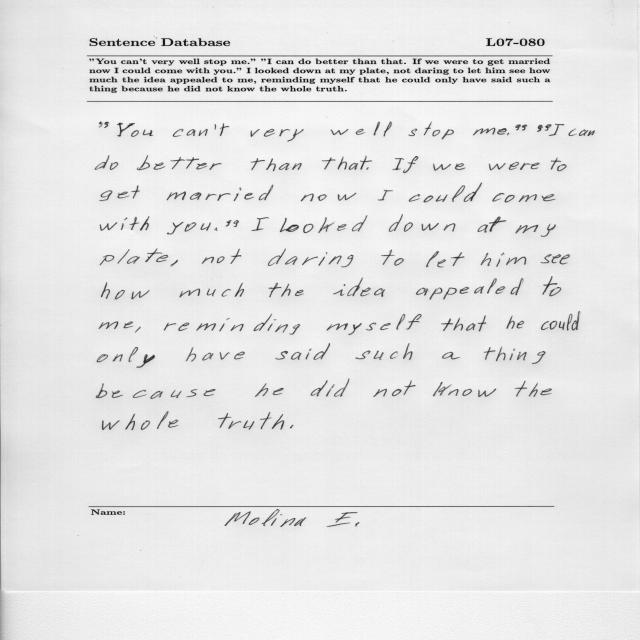word: (164, 314, 300, 335), (416, 278, 523, 299), (326, 314, 422, 335), (96, 383, 216, 399), (167, 185, 273, 201), (268, 249, 353, 268), (280, 215, 367, 233), (103, 411, 179, 430), (409, 183, 482, 202), (137, 155, 221, 170), (97, 347, 155, 368), (389, 214, 455, 232), (218, 412, 284, 430), (484, 346, 545, 364), (100, 249, 168, 265), (333, 277, 385, 297), (355, 343, 413, 360), (433, 382, 496, 397), (275, 343, 330, 360), (331, 122, 392, 137), (180, 283, 245, 297), (186, 347, 245, 362), (101, 282, 150, 299), (173, 123, 229, 137), (408, 122, 454, 139), (100, 216, 150, 231), (541, 312, 580, 331), (373, 380, 416, 397), (441, 316, 486, 332), (311, 379, 350, 397), (322, 156, 372, 170), (481, 252, 526, 267), (251, 158, 302, 171), (100, 185, 140, 201), (492, 193, 556, 203), (251, 129, 304, 141), (426, 251, 464, 267), (515, 381, 552, 397), (202, 249, 241, 264), (167, 222, 211, 235), (515, 224, 556, 237), (117, 123, 153, 137), (477, 216, 506, 233), (269, 283, 304, 297), (393, 156, 419, 173), (301, 193, 356, 201), (489, 162, 540, 170), (255, 383, 284, 397), (543, 277, 562, 297), (381, 250, 404, 266), (96, 155, 119, 170), (541, 255, 570, 265), (99, 321, 133, 329), (473, 128, 506, 136), (433, 163, 465, 171), (251, 217, 269, 231), (507, 316, 524, 329), (551, 158, 567, 171), (549, 123, 564, 136), (569, 129, 595, 136), (378, 190, 393, 200), (442, 352, 460, 359), (537, 124, 551, 132), (225, 220, 239, 227), (515, 124, 527, 131), (99, 122, 109, 128), (171, 260, 178, 267), (135, 327, 141, 333), (214, 227, 218, 231), (290, 425, 293, 429), (366, 167, 369, 170), (507, 133, 509, 135)
